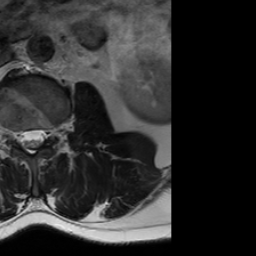CCS_normal: (27, 123, 36, 161)
LFS_stenosis: (45, 122, 58, 145)
LLS_normal: (36, 122, 45, 148)
RFS_normal: (9, 124, 18, 150)
RLS_normal: (18, 124, 27, 151)
